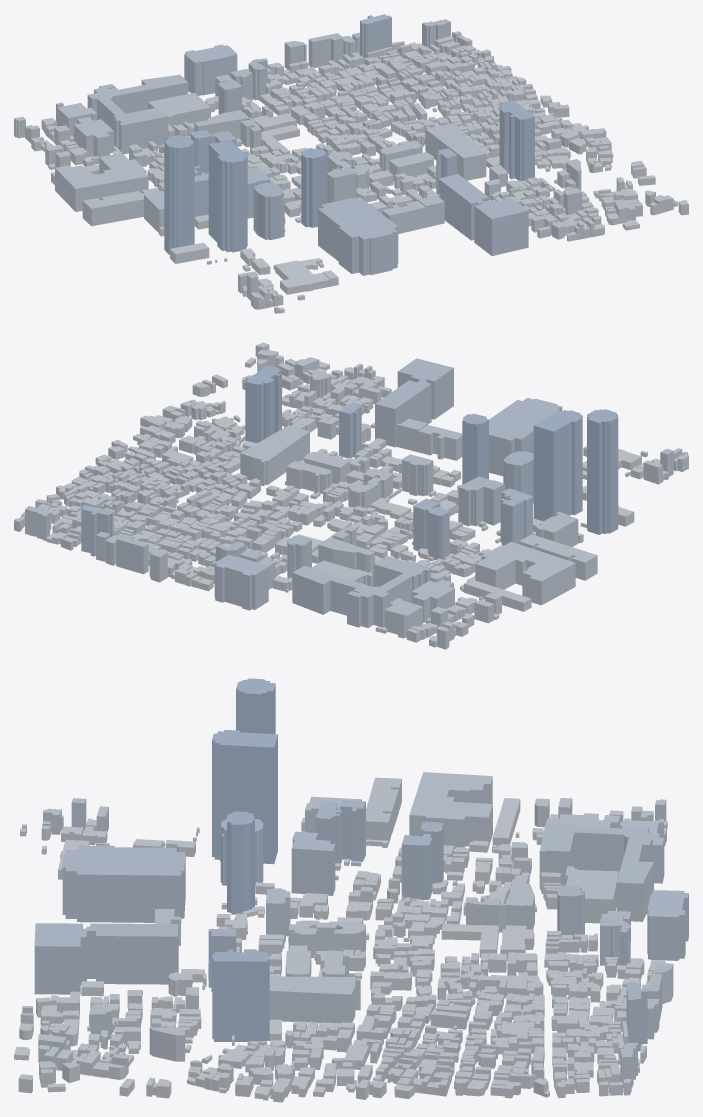
3 renders of one model, top to bottom at view 1: azimuth 30°, elevation 25°; view 2: azimuth 150°, elevation 25°; view 3: azimuth 270°, elevation 25°, orthographic. The views are drawn at different scales.
Size of the model in its own units: 550 by 119 by 519.
